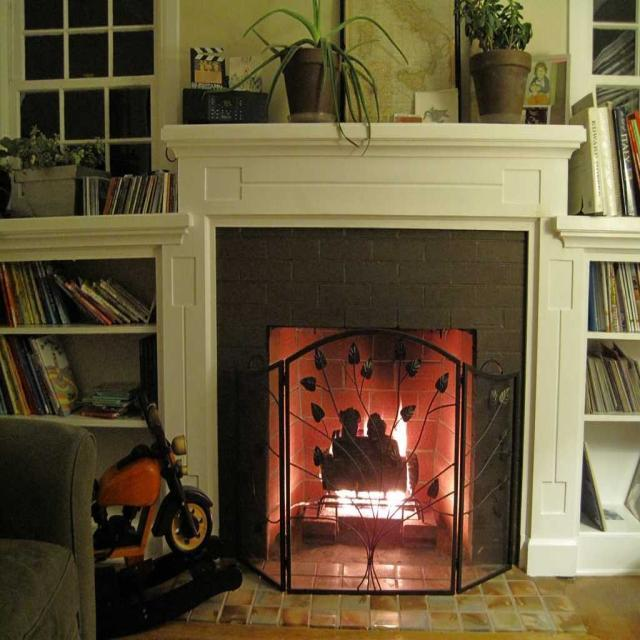Fire: (334, 485, 420, 522), (389, 418, 410, 468)
